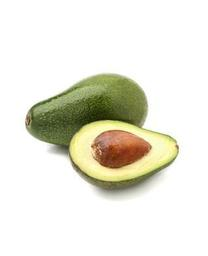avocado: (24, 74, 149, 151), (66, 120, 180, 190)
